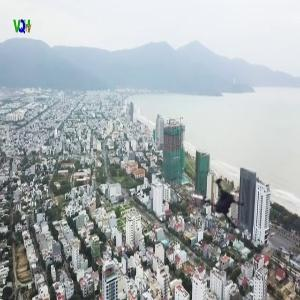drone: (181, 167, 256, 242)
